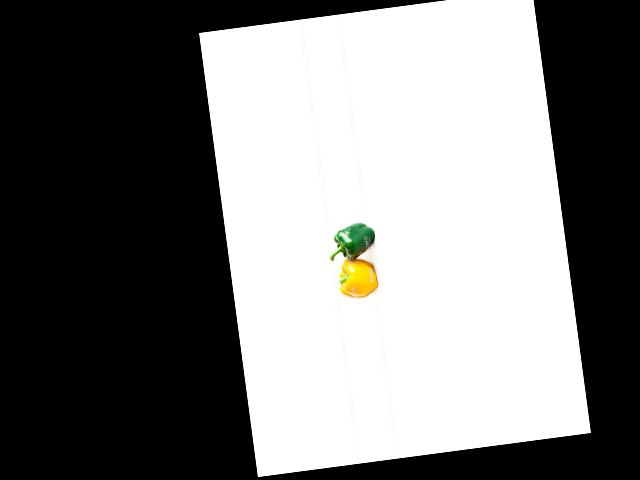bell_pepper: (329, 216, 383, 261)
